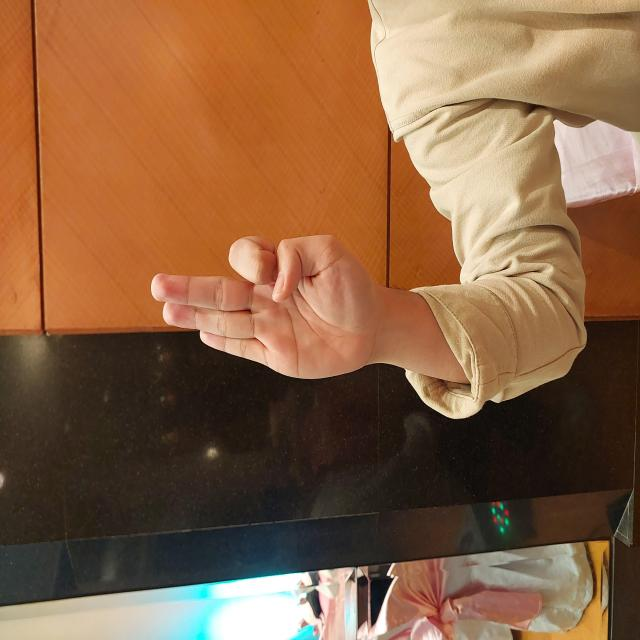F: (260, 149, 409, 380)
